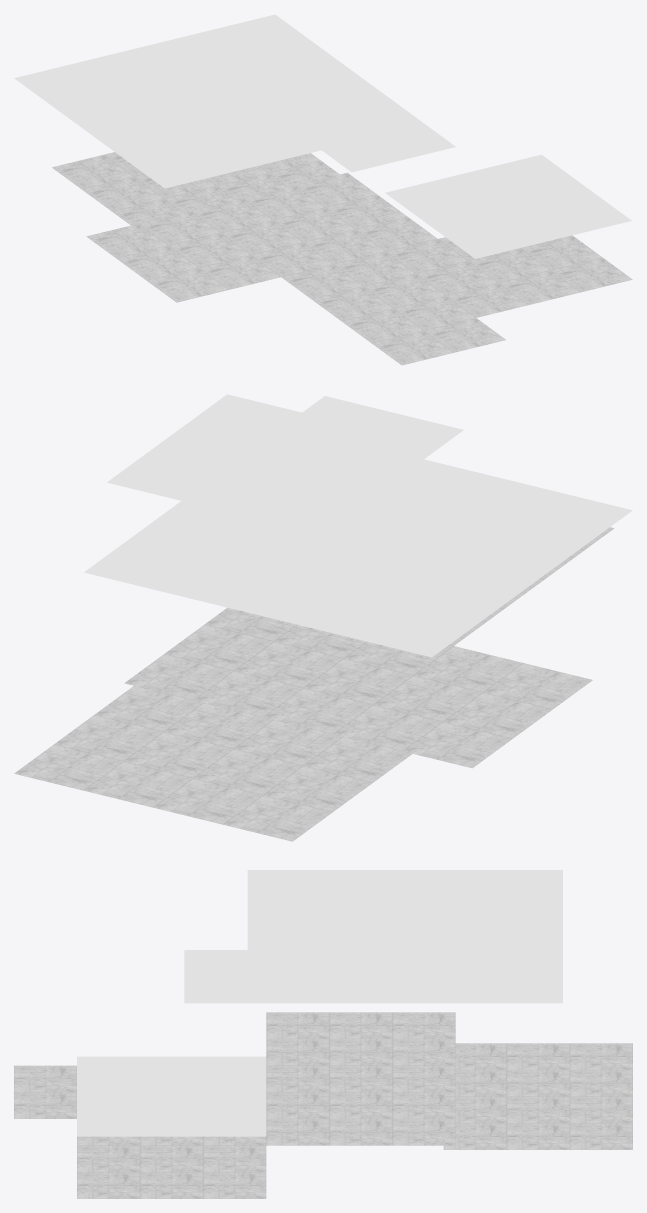
The model's file is ground_ceiling.fbx.
3 views of the same model, one above another, from view 1: azimuth 30°, elevation 25°; view 2: azimuth 150°, elevation 25°; view 3: azimuth 270°, elevation 25° (orthographic). The views are drawn at different scales.
Parts seen in each view (by area): view 1: ground_rdc__3_, ground_rdc, ground_rdc__1_, ground_rdc__2_, ground_rdc_02; view 2: ground_rdc__3_, ground_rdc_02, ground_rdc, ground_rdc__2_, ground_rdc__1_; view 3: ground_rdc__3_, ground_rdc, ground_rdc_02, ground_rdc__1_, ground_rdc__2_.
Boxes of the visible parts, bbox=[...] form: ground_rdc__3_: bbox=[14, 14, 455, 188]; ground_rdc: bbox=[86, 185, 505, 365]; ground_rdc__1_: bbox=[295, 172, 632, 317]; ground_rdc__2_: bbox=[385, 154, 631, 258]; ground_rdc_02: bbox=[52, 152, 339, 225]; ground_rdc__3_: bbox=[84, 396, 632, 657]; ground_rdc_02: bbox=[14, 686, 412, 841]; ground_rdc: bbox=[194, 527, 613, 768]; ground_rdc__2_: bbox=[107, 394, 301, 500]; ground_rdc__1_: bbox=[124, 607, 296, 700]; ground_rdc__3_: bbox=[184, 870, 562, 1003]; ground_rdc: bbox=[14, 1012, 455, 1118]; ground_rdc_02: bbox=[443, 1043, 632, 1149]; ground_rdc__1_: bbox=[77, 1119, 455, 1198]; ground_rdc__2_: bbox=[77, 1056, 266, 1136].
Bounding box in the file's own units: 18.5 × 5.99 × 24.52.
Materials: 3 (1 with a texture image).
